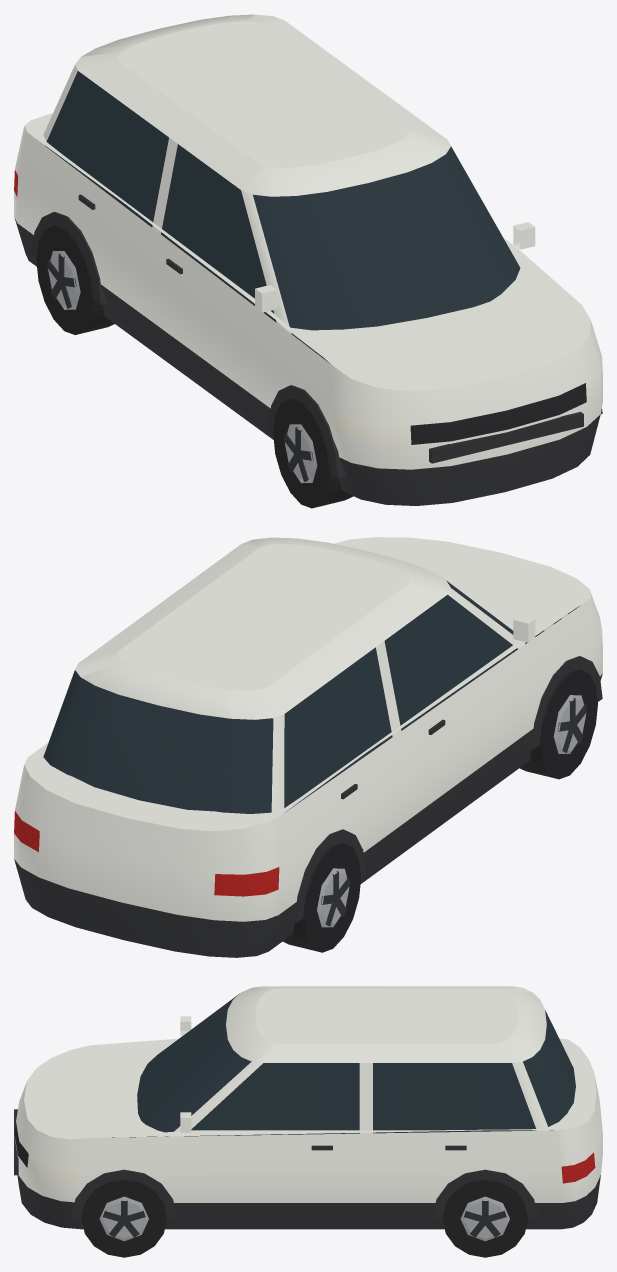
File: sf_hatch_ev.glb
The picture shows the model from 3 angles, top to bottom: view 1: azimuth 30°, elevation 25°; view 2: azimuth 150°, elevation 25°; view 3: azimuth 270°, elevation 25°; orthographic projection. The views are drawn at different scales.
Visible parts, largest first — view 1: sf_hatch_ev; view 2: sf_hatch_ev; view 3: sf_hatch_ev.
Boxes of the visible parts, x1,y1,x2,y2 form: sf_hatch_ev: (14, 14, 602, 508); sf_hatch_ev: (14, 537, 602, 957); sf_hatch_ev: (14, 986, 602, 1257).
Bounding box in the file's own units: 1.82 × 1.58 × 4.4.
Materials: 1 (1 with a texture image).
